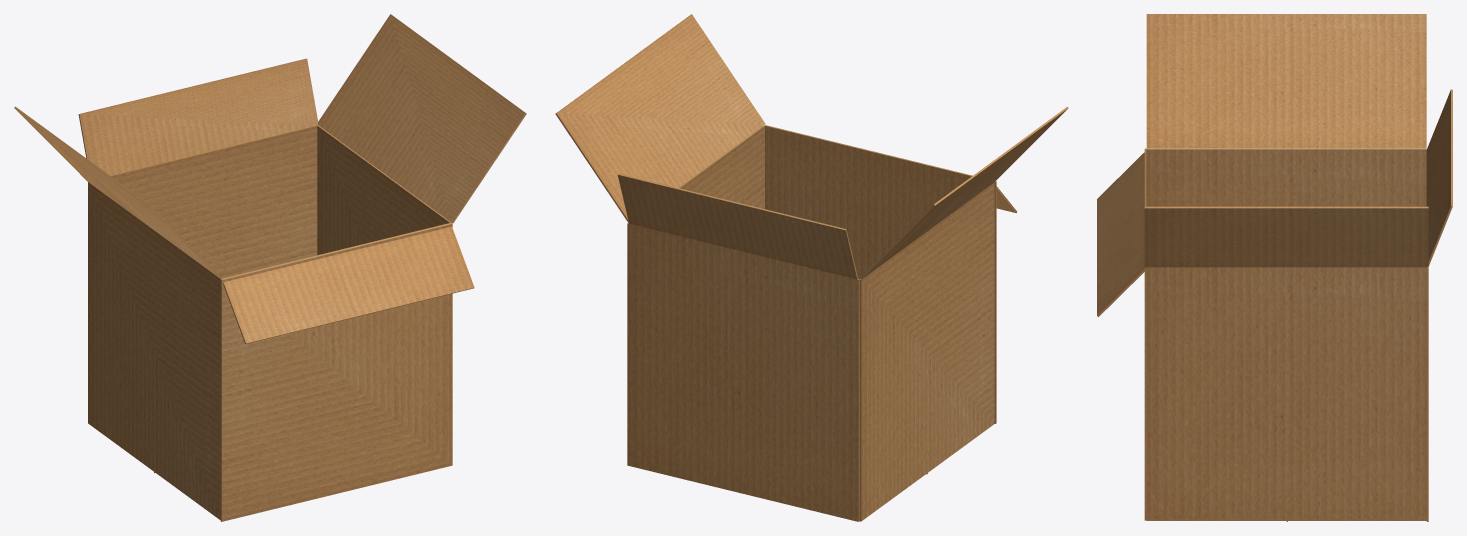
The model's file is CartoonBox.fbx.
3 views of the same model, side by side, from view 1: azimuth 30°, elevation 25°; view 2: azimuth 150°, elevation 25°; view 3: azimuth 270°, elevation 25° (orthographic). The views are drawn at different scales.
Parts seen in each view (by area): view 1: BoxBase, CapLeft, CapBack, CapFront, CapRight; view 2: BoxBase, CapLeft, CapBack, CapRight; view 3: BoxBase, CapRight, CapLeft, CapFront, CapBack.
Part boxes in pixels (x1,y1,x2,y2): BoxBase: [88, 125, 452, 521]; CapLeft: [317, 14, 526, 223]; CapBack: [78, 58, 318, 175]; CapFront: [223, 226, 474, 343]; CapRight: [14, 106, 221, 278]; BoxBase: [627, 125, 996, 521]; CapLeft: [555, 14, 765, 223]; CapBack: [617, 173, 857, 279]; CapRight: [860, 106, 1068, 279]; BoxBase: [1144, 148, 1428, 521]; CapRight: [1146, 14, 1426, 148]; CapLeft: [1144, 206, 1428, 267]; CapFront: [1097, 152, 1146, 316]; CapBack: [1426, 89, 1452, 266].
Bounding box in the file's own units: 336 × 260 × 284.
